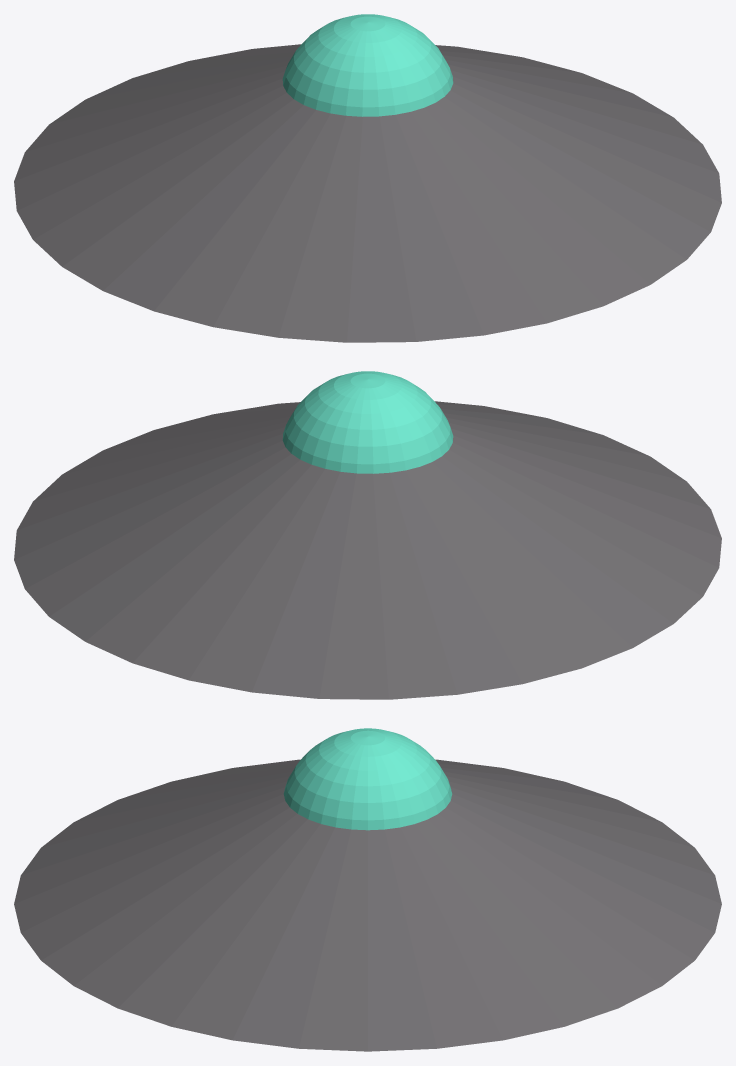
File: ufo.fbx
3 views of the same model, one above another, from view 1: azimuth 30°, elevation 25°; view 2: azimuth 150°, elevation 25°; view 3: azimuth 270°, elevation 25° (orthographic).
Parts seen in each view (by area): view 1: Cone, Sphere; view 2: Cone, Sphere; view 3: Cone, Sphere.
Boxes of the visible parts, x1=… form: Cone: x1=14, y1=44, x2=721, y2=342; Sphere: x1=282, y1=14, x2=453, y2=116; Cone: x1=14, y1=401, x2=721, y2=699; Sphere: x1=282, y1=371, x2=453, y2=473; Cone: x1=14, y1=759, x2=721, y2=1051; Sphere: x1=283, y1=728, x2=452, y2=830.
Size of the model in its own units: 3531 by 1039 by 3583.
